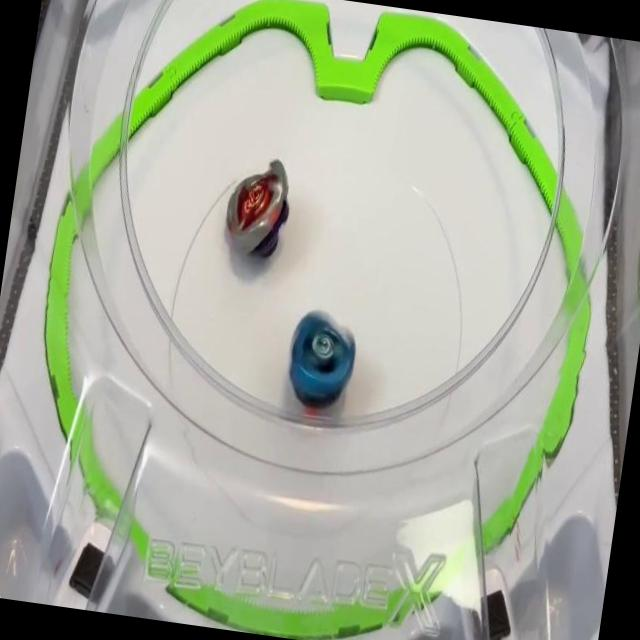Beyblade: (282, 308, 362, 416), (220, 154, 296, 264)
